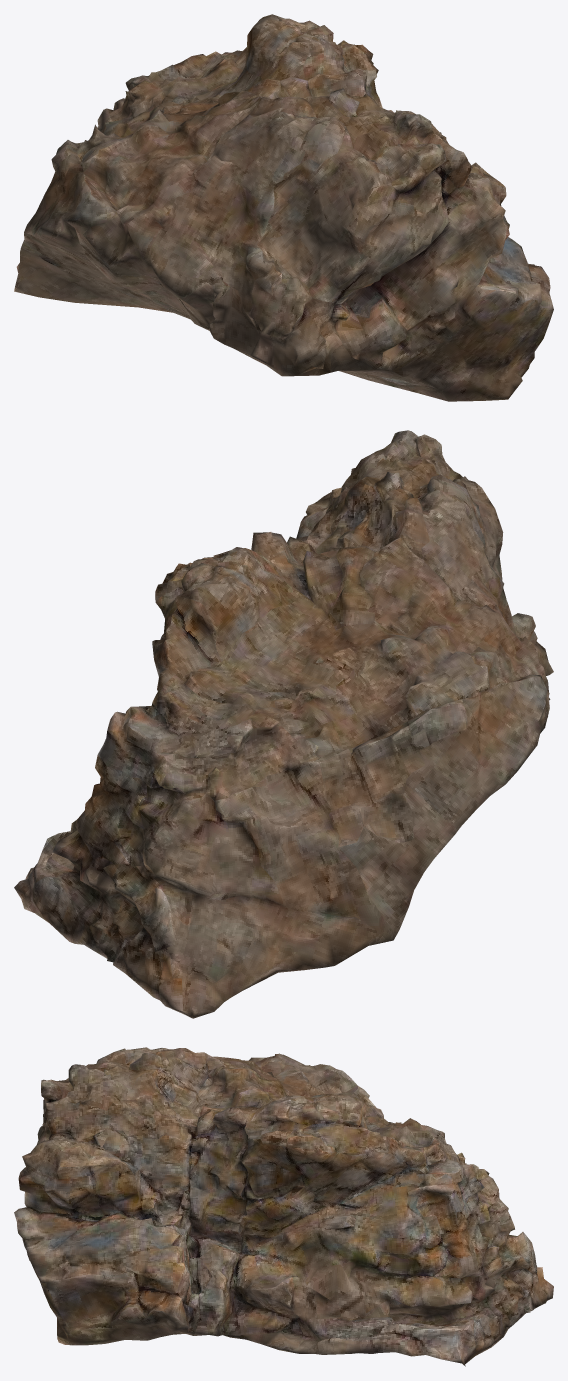
The model's file is grounded-boulder-clear.glb.
The picture shows the model from 3 angles, top to bottom: view 1: azimuth 30°, elevation 25°; view 2: azimuth 150°, elevation 25°; view 3: azimuth 270°, elevation 25°; orthographic projection. The views are drawn at different scales.
Parts seen in each view (by area): view 1: grounded-boulder-clear runtime mesh; view 2: grounded-boulder-clear runtime mesh; view 3: grounded-boulder-clear runtime mesh.
Boxes of the visible parts, bbox=[...] form: grounded-boulder-clear runtime mesh: bbox=[14, 14, 553, 401]; grounded-boulder-clear runtime mesh: bbox=[14, 430, 553, 1018]; grounded-boulder-clear runtime mesh: bbox=[14, 1047, 553, 1366].
Size of the model in its own units: 1.25 by 0.9876 by 1.8.
1 material, 1 textured.
